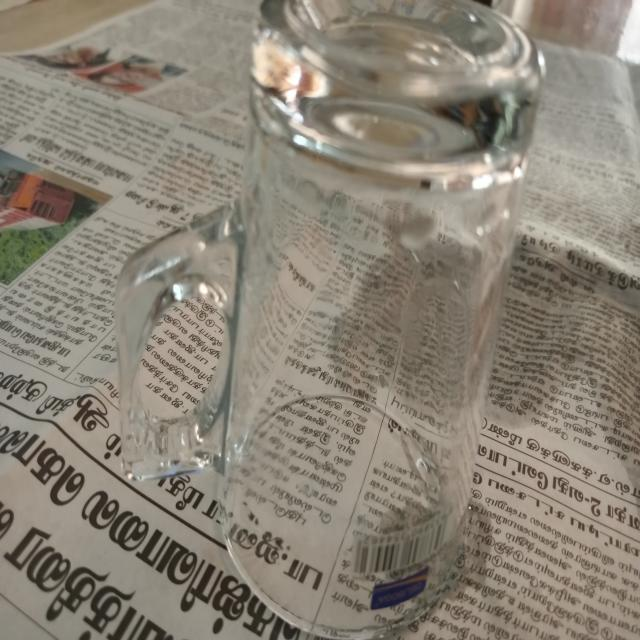glass-VX4N: (111, 0, 548, 639)
